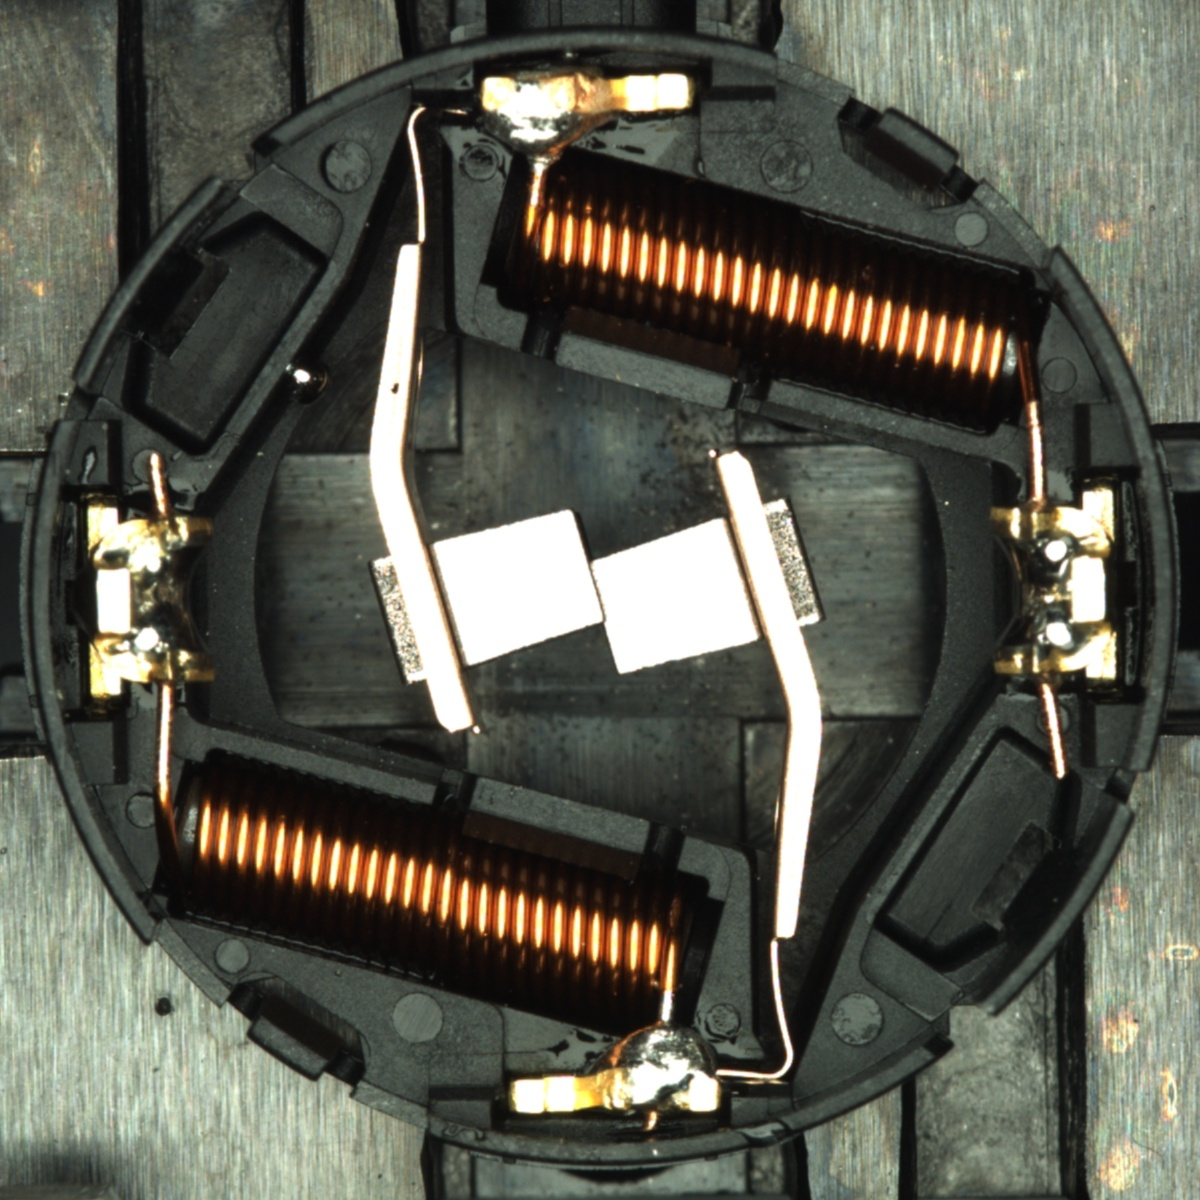1: (252, 31, 480, 255), (710, 929, 938, 1153)
2: (710, 31, 938, 255), (252, 929, 480, 1153)
3: (938, 703, 1168, 929), (22, 255, 252, 479)
4: (710, 703, 938, 929)
5: (480, 815, 710, 1041), (480, 143, 710, 367)
6: (252, 703, 480, 929), (710, 255, 938, 479)
7: (22, 703, 252, 929), (938, 255, 1168, 479)
cacbon: (395, 499, 795, 684)
chau_dien: (984, 488, 1123, 687), (80, 499, 219, 698)
hat_chi: (284, 354, 332, 405)
tay_choi: (479, 68, 696, 170), (509, 1019, 723, 1116)
thanh_de: (955, 788, 1142, 1031), (59, 165, 243, 405)
